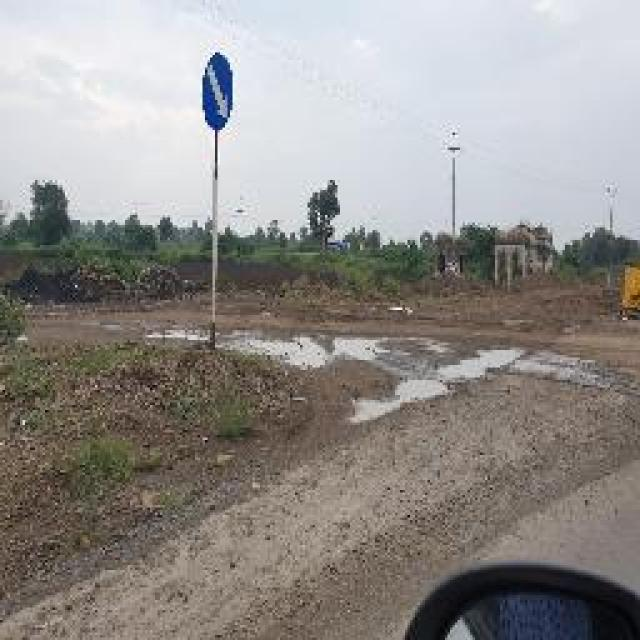stagnation: (230, 298, 544, 408)
